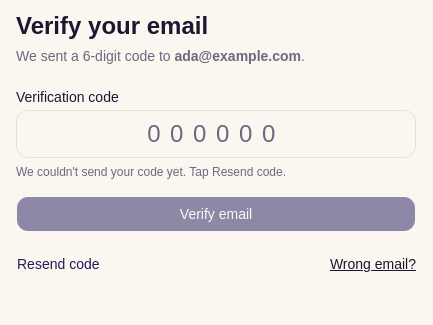
Test: VerifyEmailPage › lets the user resend straight away when the code was not sent
Expected: the text "We couldn't send your code yet. Tap Resend code." is shown, [16,165,286,179]
Click the button "Resend code" at (58, 264), box [16,248,100,280]
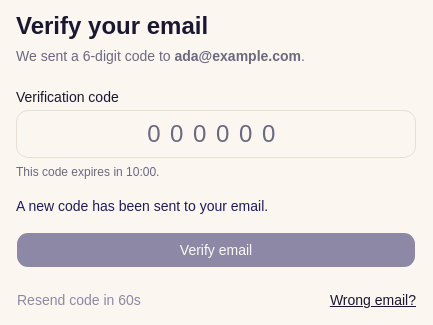
Now the text "A new code has been sent to your email." is shown, box [16,198,268,214]
